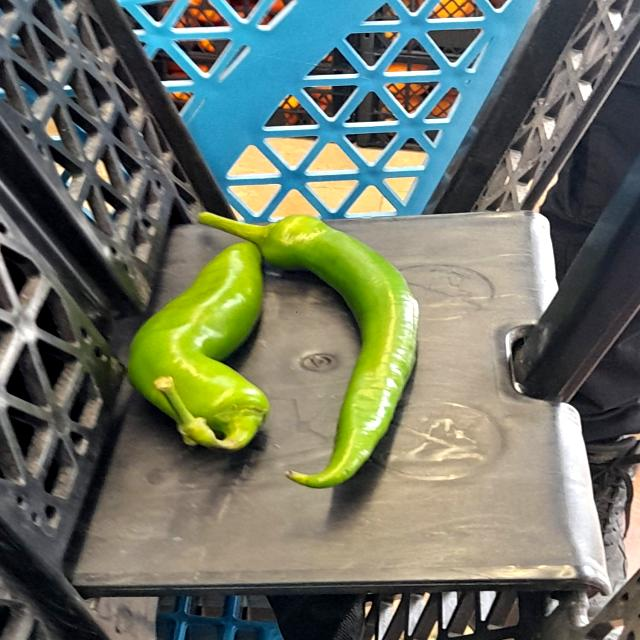green pepper: (224, 192, 426, 491), (125, 218, 286, 456)
